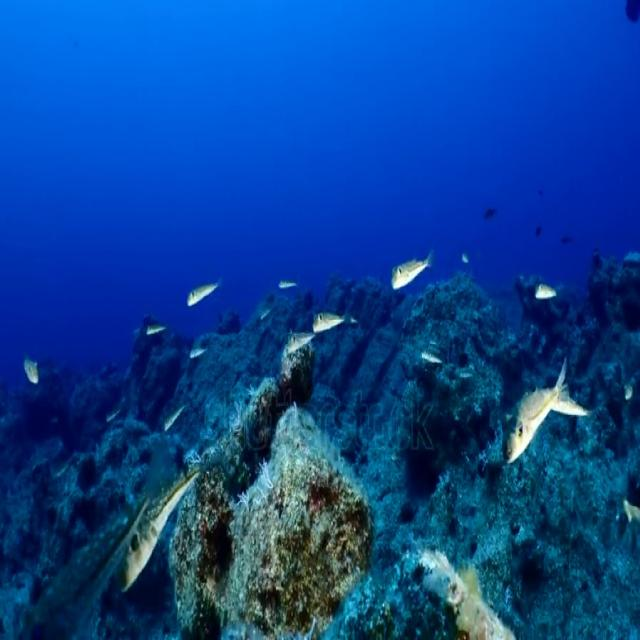Balon Baligi: (112, 463, 202, 600), (496, 357, 577, 470), (387, 242, 439, 290), (187, 270, 225, 308), (314, 302, 353, 331), (283, 327, 320, 353)
